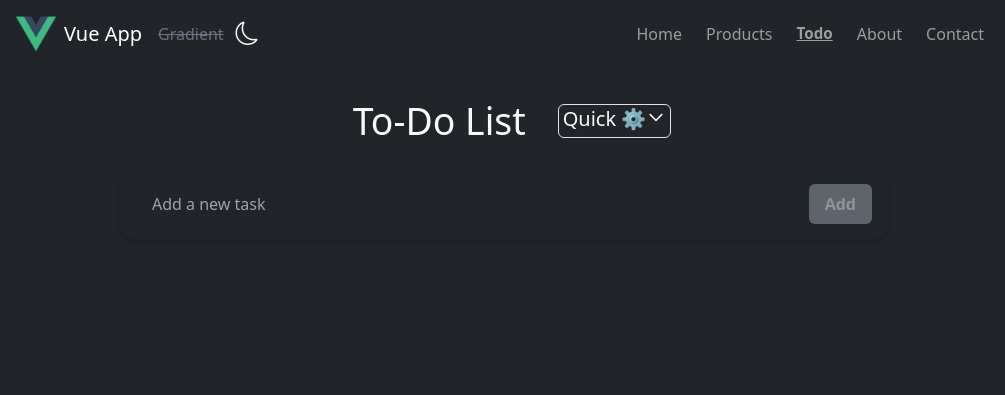
Test: ToDo View Page › add a new task by typing
Expected: the button "Add" is disabled, [809,184,872,224]
Type the new task into the input field
In the dropdown labelled "Add a new task": (465, 204) [136,184,793,224], type "Sold Antonio Bnaderas 3g"
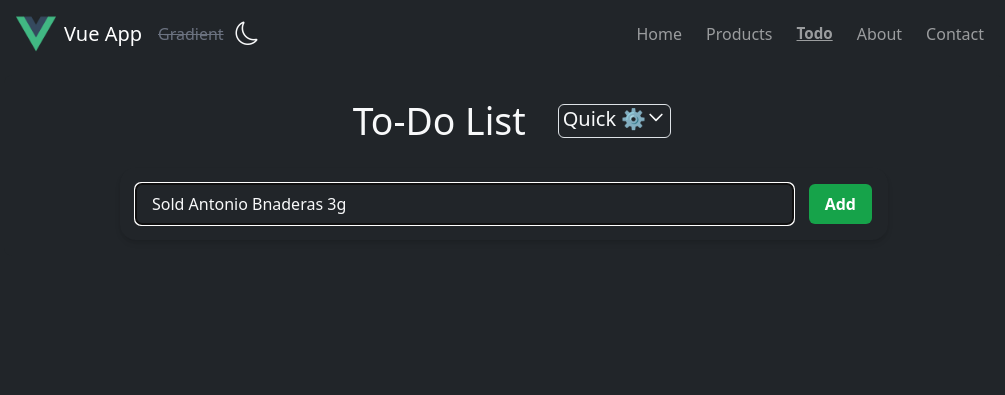
Expected: the button "add" is enabled
Ensure the "Add" button is enabled after typing the task
Click the button "Add": (841, 204) [809,184,872,224]
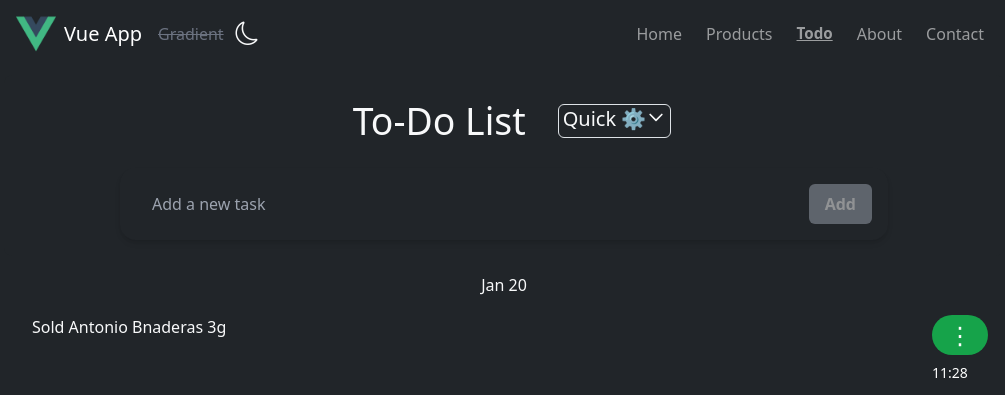
Now the button "Add" is disabled, box [809,184,872,224]
Now the text "Sold Antonio Bnaderas 3g" is shown, box [32,315,226,339]
